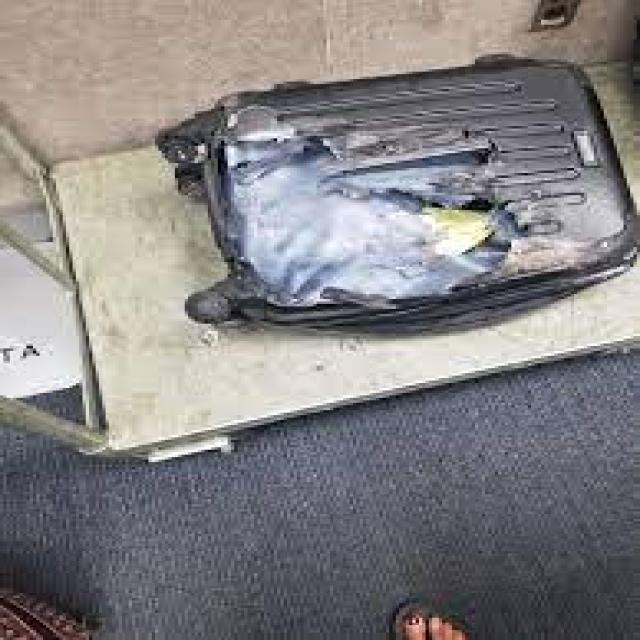Damage-bag: (207, 105, 622, 332)
